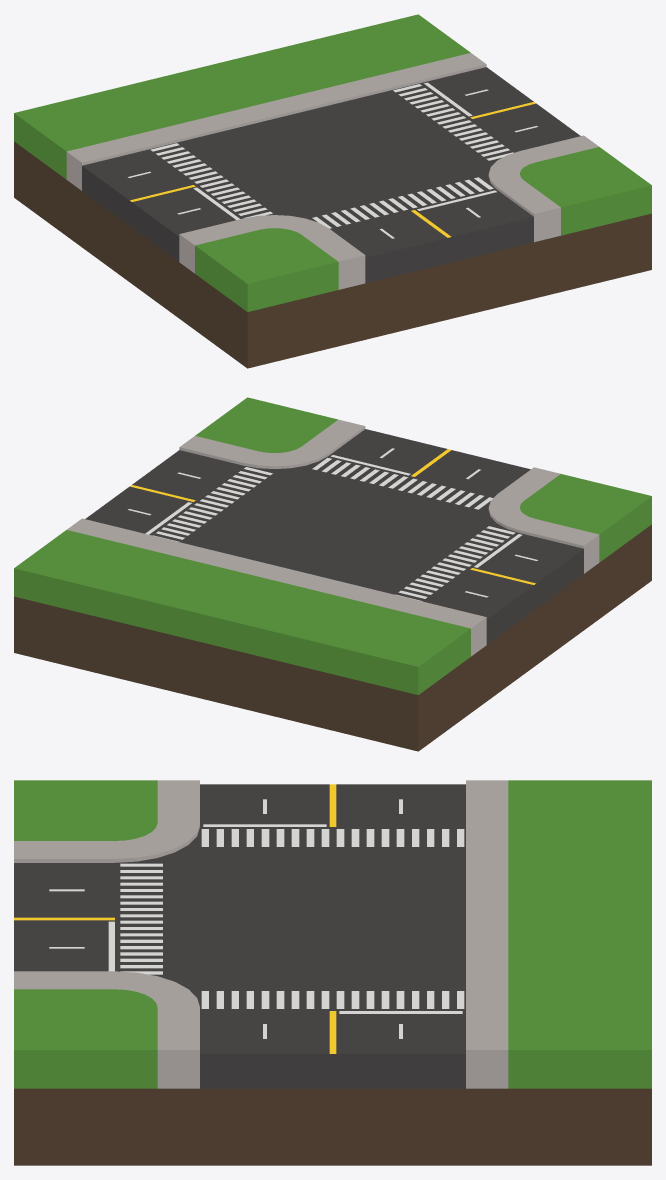
The model's file is tile-mainroad-intersection-t.glb.
3 renders of one model, top to bottom at view 1: azimuth 30°, elevation 25°; view 2: azimuth 150°, elevation 25°; view 3: azimuth 270°, elevation 25°, orthographic. The views are drawn at different scales.
Parts seen in each view (by area): view 1: tile-mainroad-intersection-t; view 2: tile-mainroad-intersection-t; view 3: tile-mainroad-intersection-t.
Part boxes in pixels (x1,y1,x2,y2): tile-mainroad-intersection-t: [14, 14, 651, 368]; tile-mainroad-intersection-t: [14, 397, 651, 751]; tile-mainroad-intersection-t: [14, 780, 651, 1165].
Bounding box in the file's own units: 30 × 6 × 30.
Materials: 1 (1 with a texture image).
